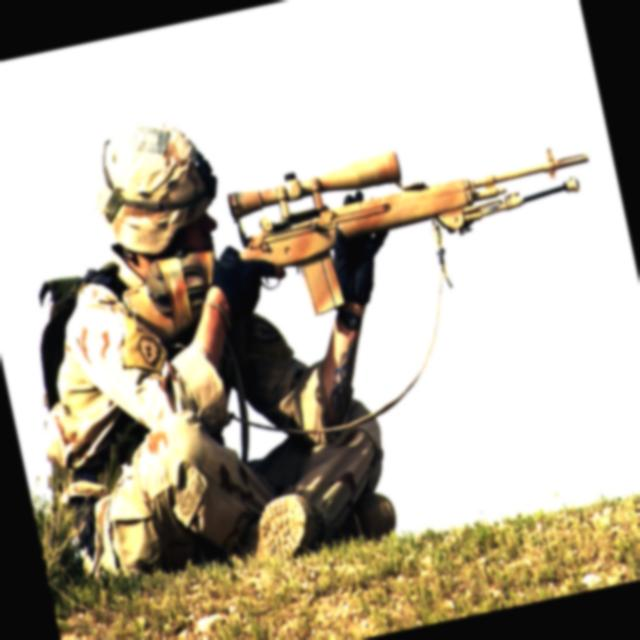rifle: (118, 99, 618, 356)
